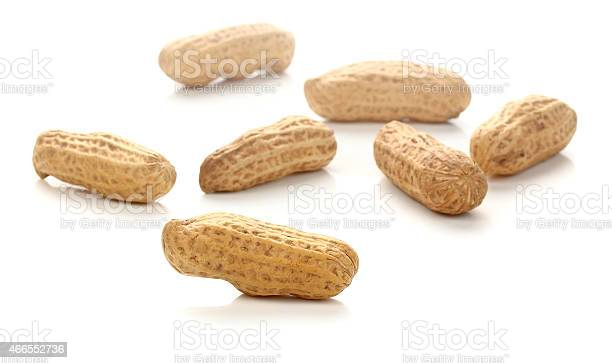kacang3: (158, 212, 360, 303), (197, 115, 339, 194), (32, 128, 178, 203)
